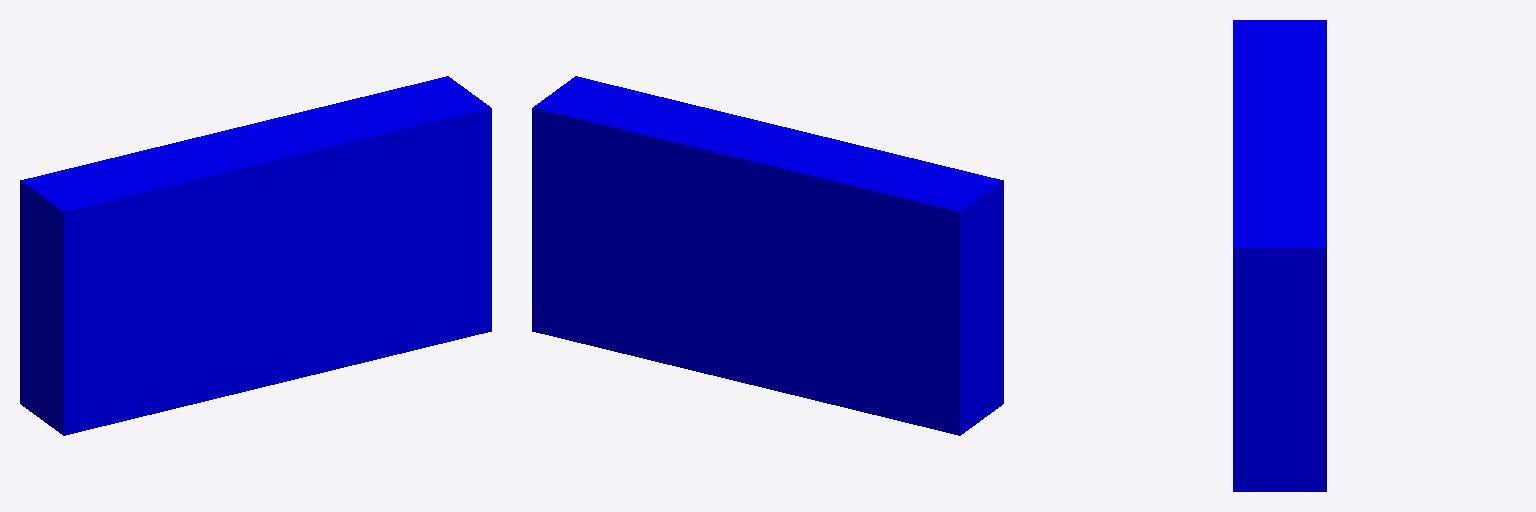
URDF robot description (box_blue):
<?xml version="1.0" ?>
<robot name="box_blue">

  <link name="base_link">

    <inertial>
      <origin rpy="0.0 0.0 0.0" xyz="0.0 0.0 0.0"/>
      <mass value="5.0"/>
      <inertia ixx="0.1871" ixy="0.0" ixz="0.0" iyy="0.8333" iyz="0.0" izz="0.6871"/>
    </inertial>

    <visual>
      <origin rpy="0.0 0.0 0.0" xyz="0.0 0.0 0.025"/>
      <geometry>
        <box size="0.4 0.07 0.2"/>
      </geometry>
      <material name="blue">
        <color rgba="0 0 1 1"/>
      </material>
    </visual>

    <collision>
      <origin rpy="0.0 0.0 0.0" xyz="0.0 0.0 0.025"/>
      <geometry>
        <box size="0.4 0.07 0.2"/>
      </geometry>
    </collision>

  </link>

  <gazebo reference="base_link">
    <material>Gazebo/Blue</material>
  </gazebo>
  
</robot>

--- What the picture shows (computed from the rendered views, not written in the file) ---
Views: 3 orthographic renders of the robot side by side, from view 1: azimuth 30°, elevation 25°; view 2: azimuth 150°, elevation 25°; view 3: azimuth 270°, elevation 25°.
Model box_blue with 1 links and 0 joints (none), rooted at base_link, posed every joint at zero.
Links seen in each view (by area): view 1: base_link; view 2: base_link; view 3: base_link.
Link boxes in pixels (<box>): base_link: <box>20,76,491,435</box>; base_link: <box>532,76,1003,435</box>; base_link: <box>1233,20,1326,491</box>.
Bounding box of the posed robot: 0.4 × 0.07 × 0.2 m (x, y, z).
Geometry: primitives only (box / cylinder / sphere), no mesh files.